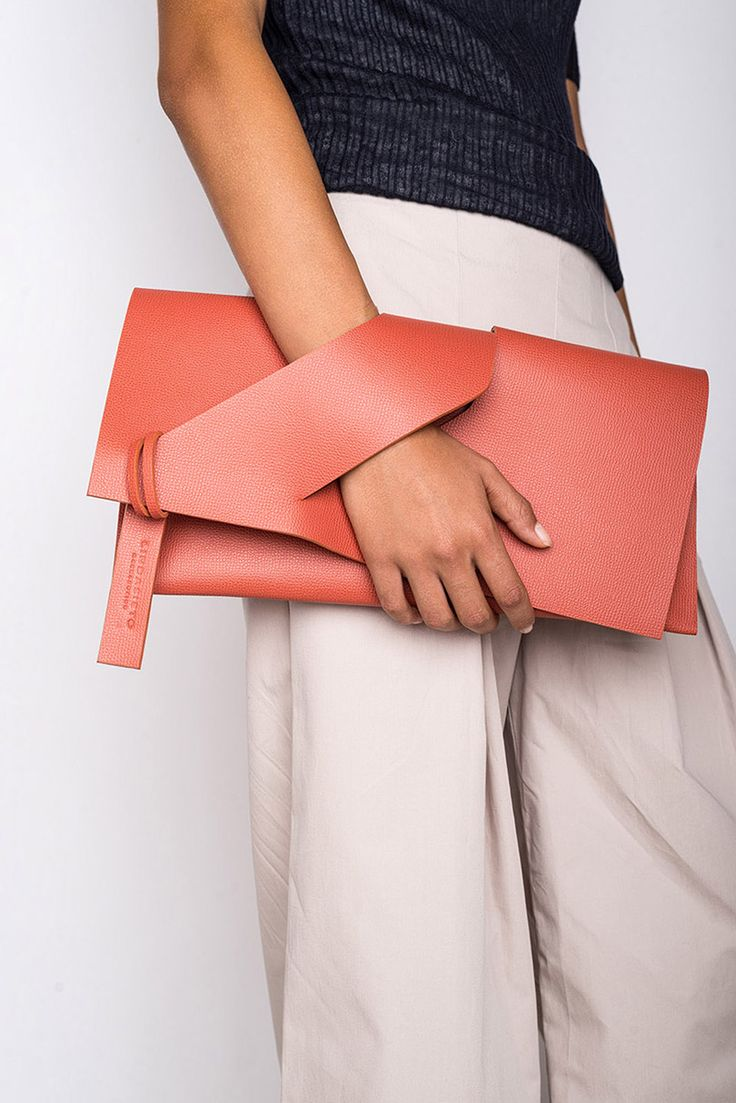cuero: (87, 285, 710, 665)
